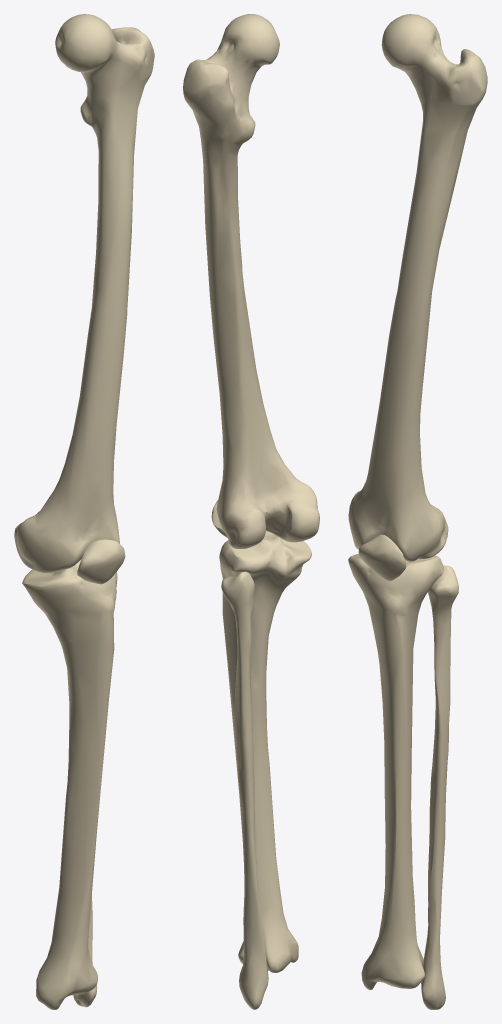
File: kneeb.glb
The picture shows the model from 3 angles, left to right: view 1: azimuth 30°, elevation 25°; view 2: azimuth 210°, elevation 25°; view 3: azimuth 330°, elevation 25°; orthographic projection. The views are drawn at different scales.
Parts seen in each view (by area): view 1: left femur, left tibia, left patella, left fibula; view 2: left femur, left tibia, left fibula; view 3: left femur, left tibia, left fibula, left patella.
Part boxes in pixels (box(x1,y1,x2,y2)): left femur: box(14, 14, 154, 572); left tibia: box(22, 559, 117, 1009); left patella: box(77, 539, 125, 584); left fibula: box(73, 895, 97, 1007); left femur: box(183, 14, 319, 548); left tibia: box(219, 530, 311, 972); left fibula: box(221, 571, 268, 1009); left femur: box(348, 14, 487, 561); left tibia: box(348, 554, 443, 990); left fibula: box(421, 565, 458, 1009); left patella: box(358, 534, 406, 580).
Bounding box in the file's own units: 0.1183 × 0.8594 × 0.0742.
